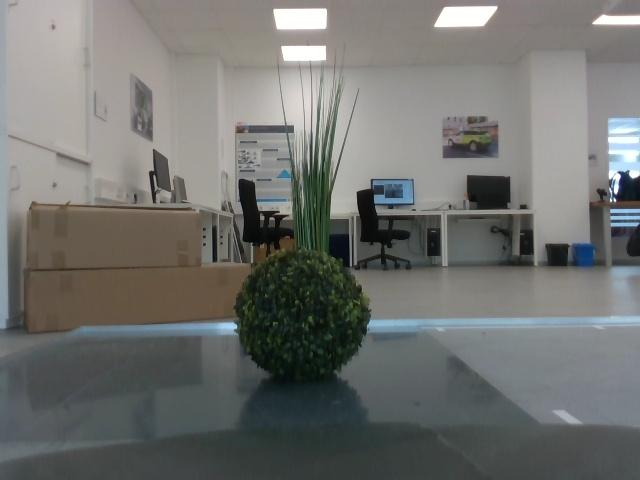potted plant: (233, 248, 376, 385), (274, 58, 364, 246)
